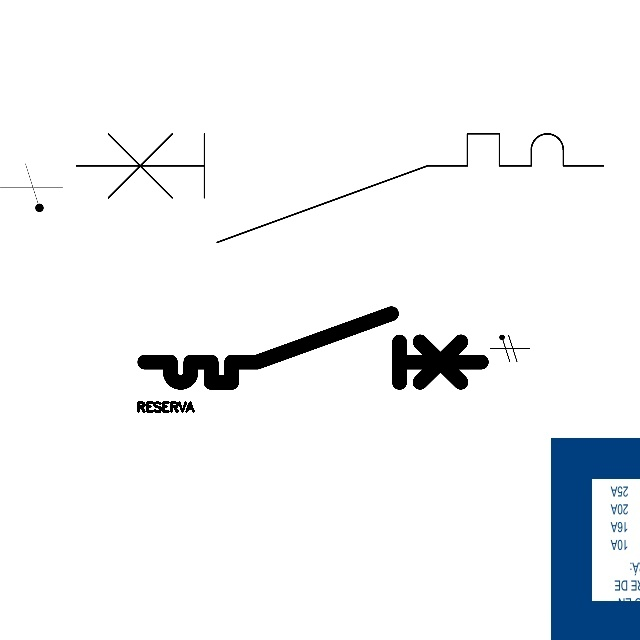interruptor_termomagnetico: (62, 120, 617, 256), (136, 305, 490, 391)
